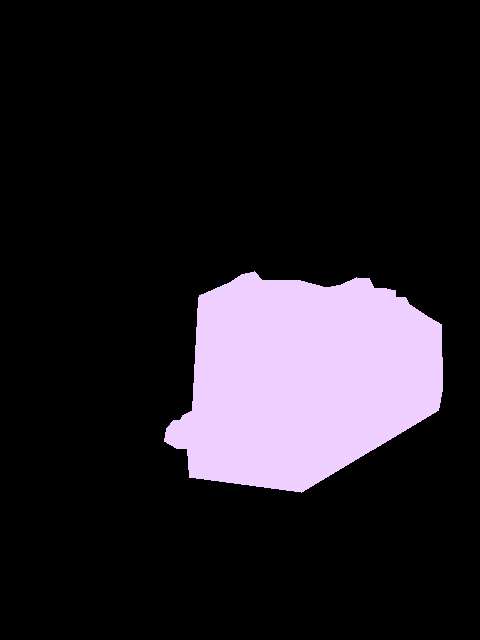Train: (164, 271, 442, 493)
